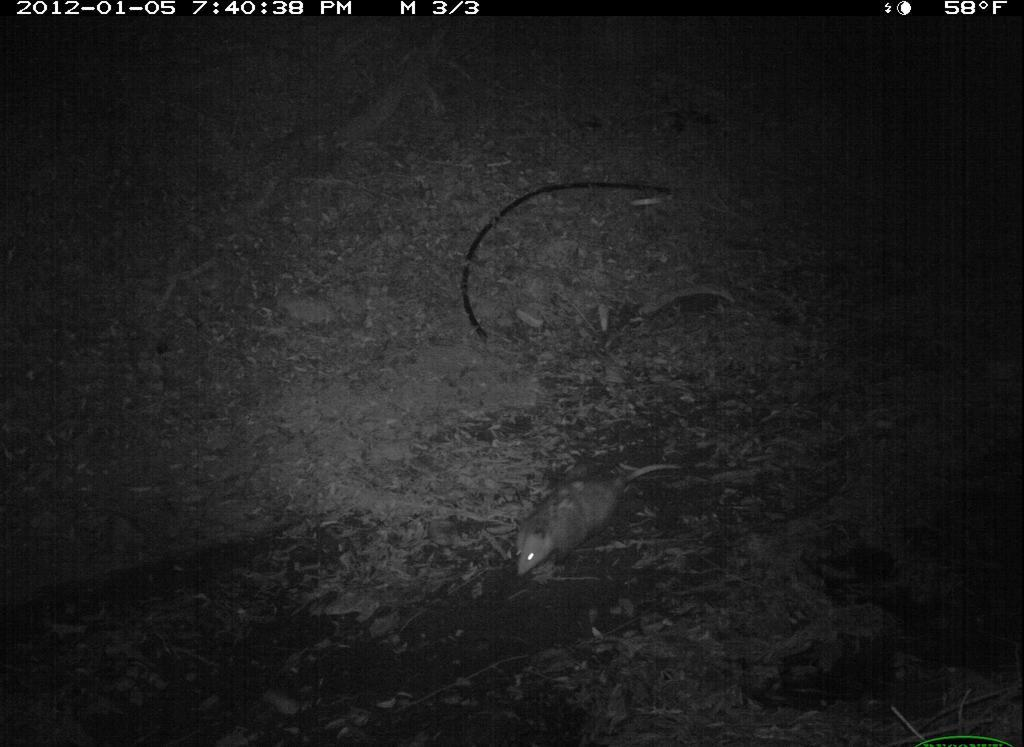opossum: (504, 445, 690, 580)
